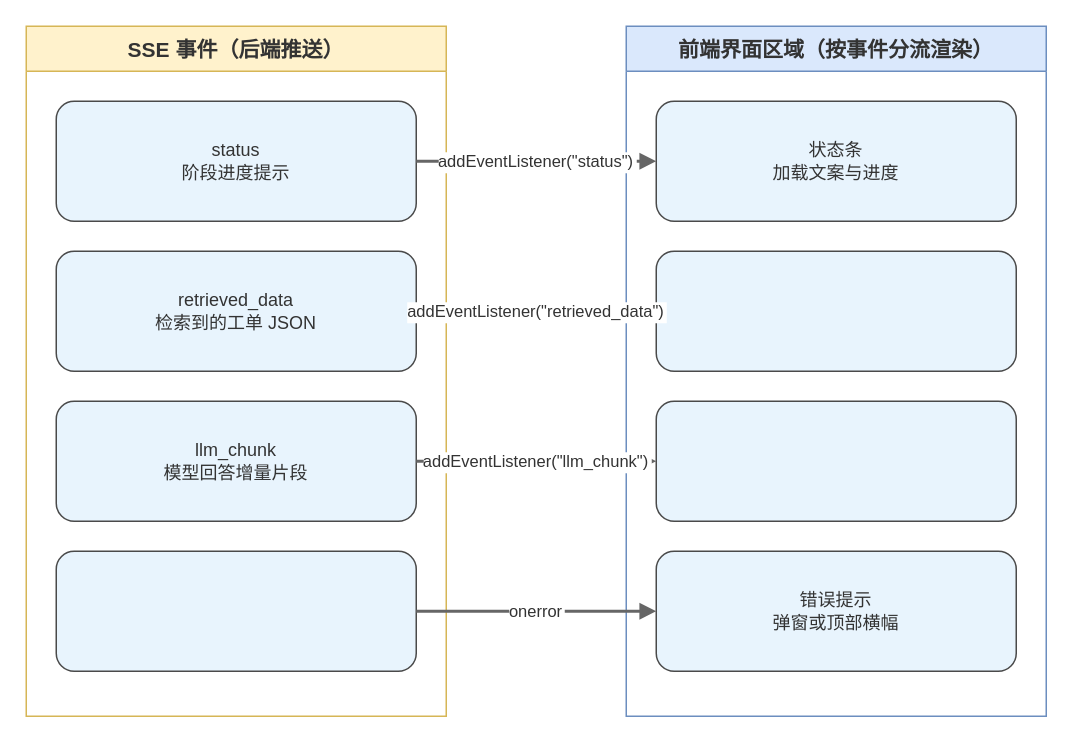
Image size: 1073x743. Some labels were removed from this diagram. The shapes that lost their labels are listed below. From the top down, each one's centre as x and y in pixels, then its label:
the point at 835,310: 参考区 工单卡片列表
the point at 835,460: 消息列表 助手回答 + 流式光标
the point at 235,610: error / onerror 错误信息或连接异常
